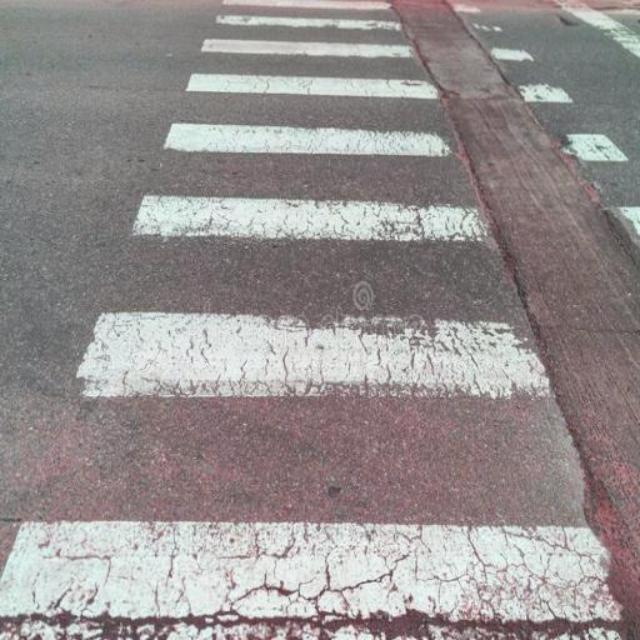sidewalk: (5, 4, 612, 616)
